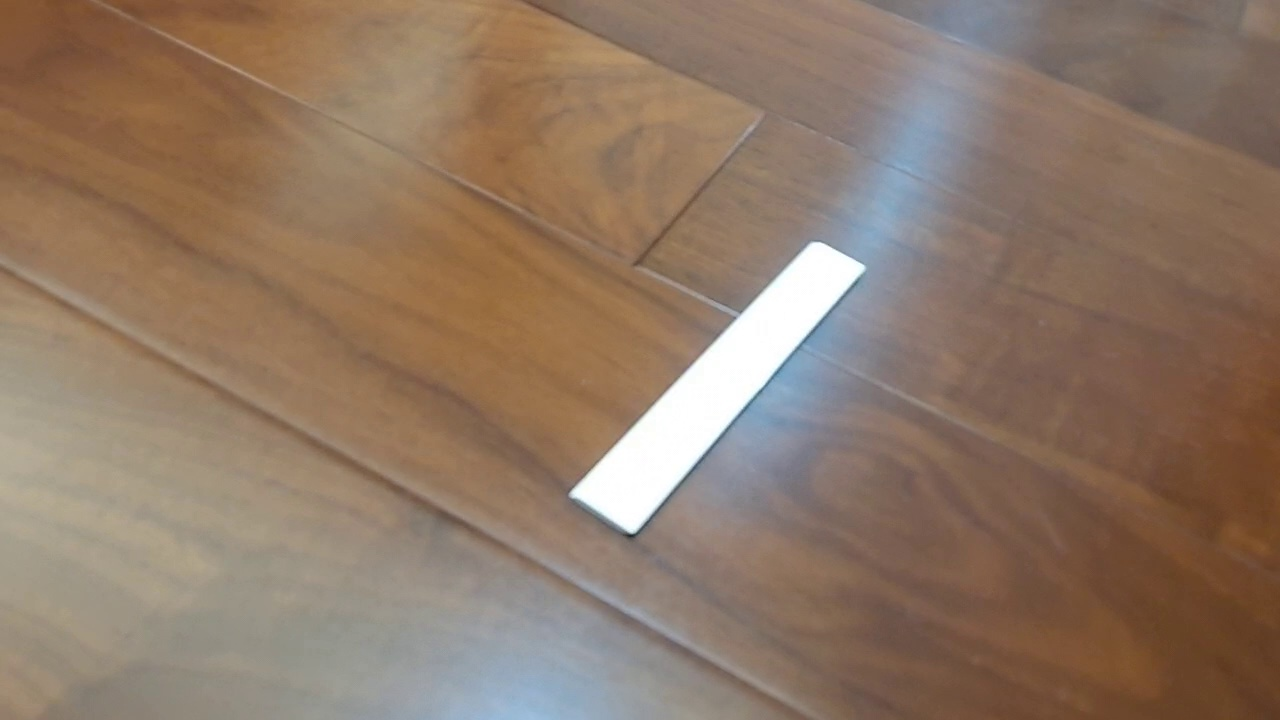ruler: (565, 238, 868, 540)
